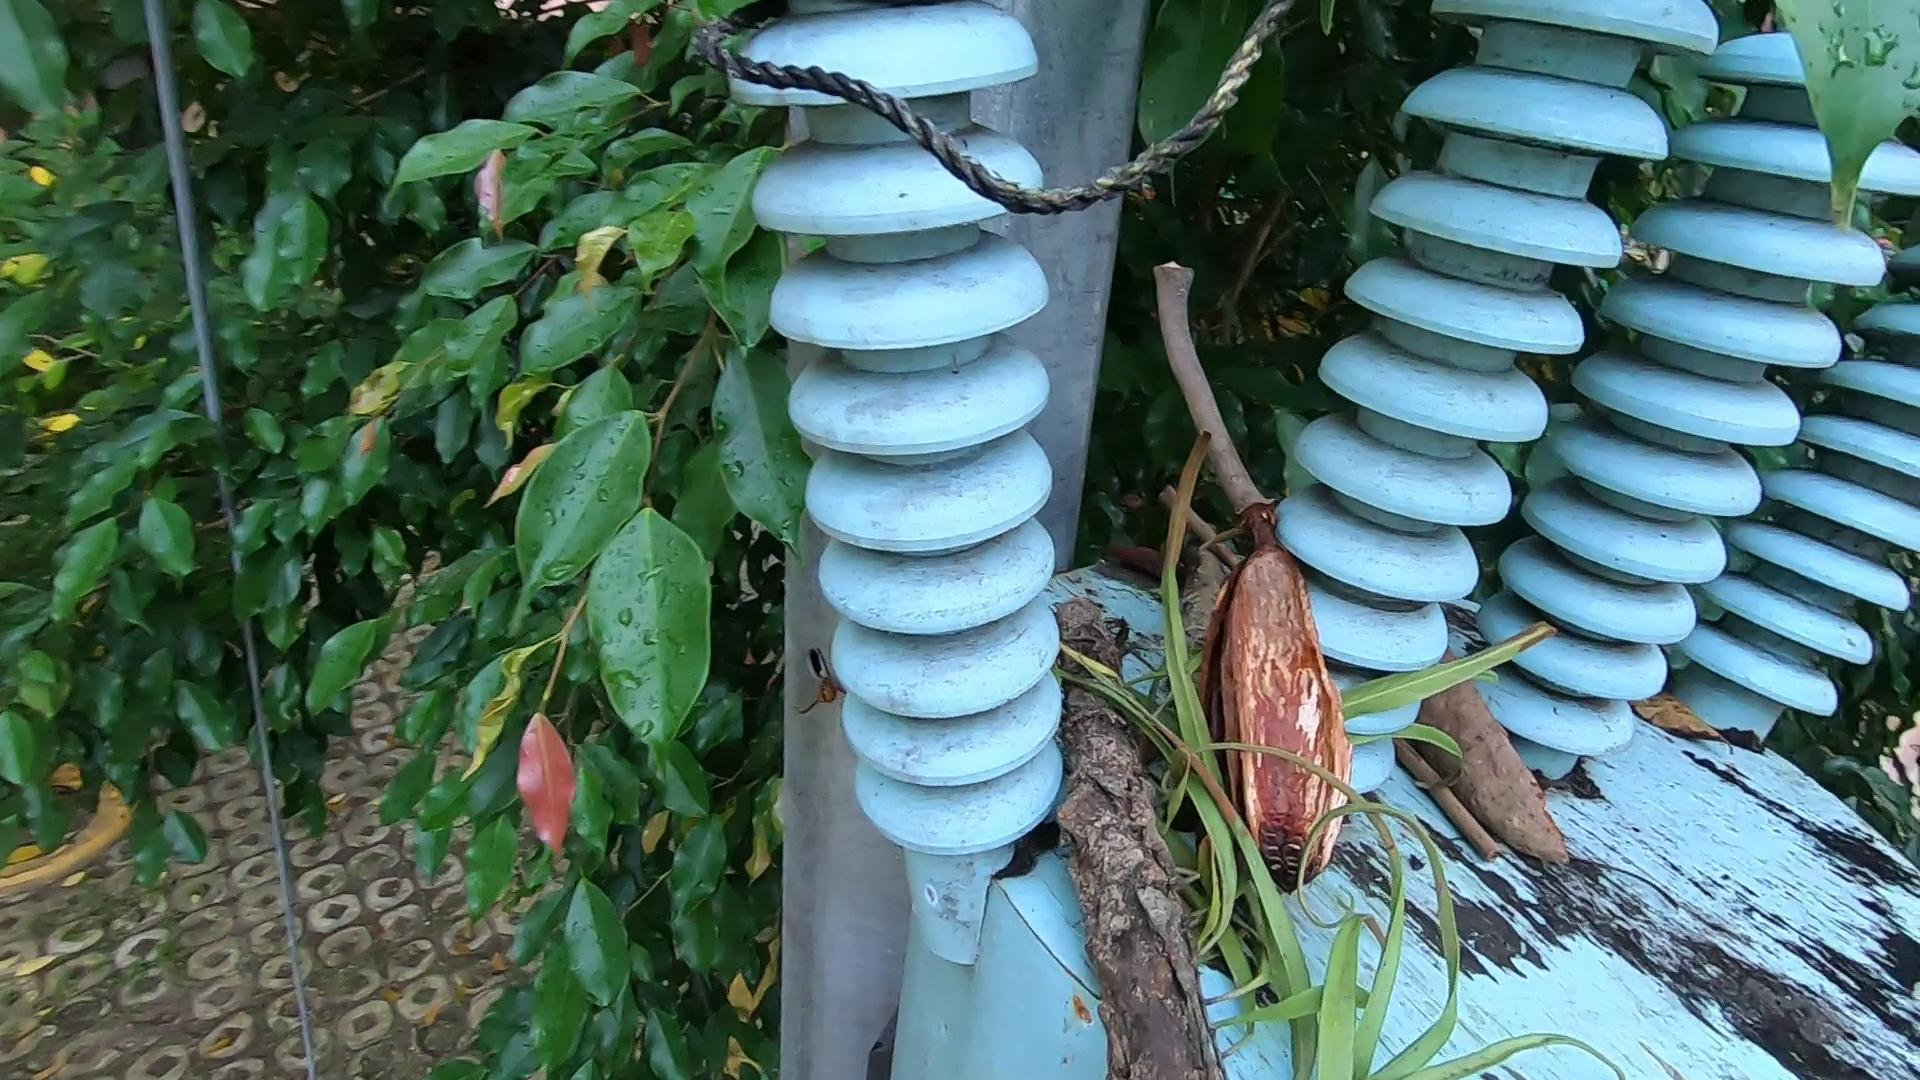branch with leaves: (1004, 394, 1619, 1080)
leaf: (1639, 682, 1737, 749)
mahogany fruit: (1162, 496, 1396, 942), (1416, 626, 1625, 940)
tree branch: (1147, 249, 1375, 880), (1400, 727, 1509, 861), (1158, 473, 1247, 560)
